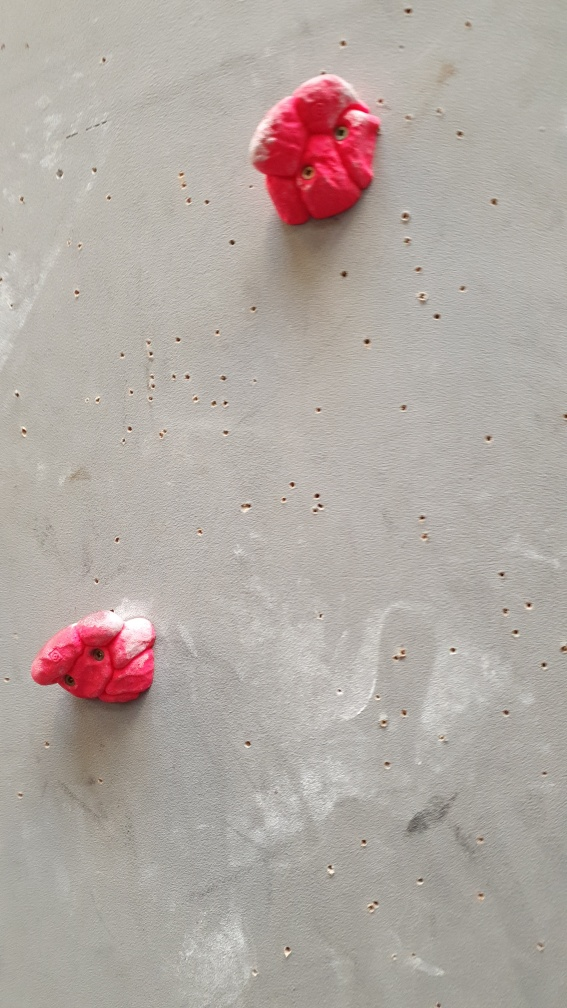Jug: (251, 69, 383, 234), (30, 607, 158, 707)
